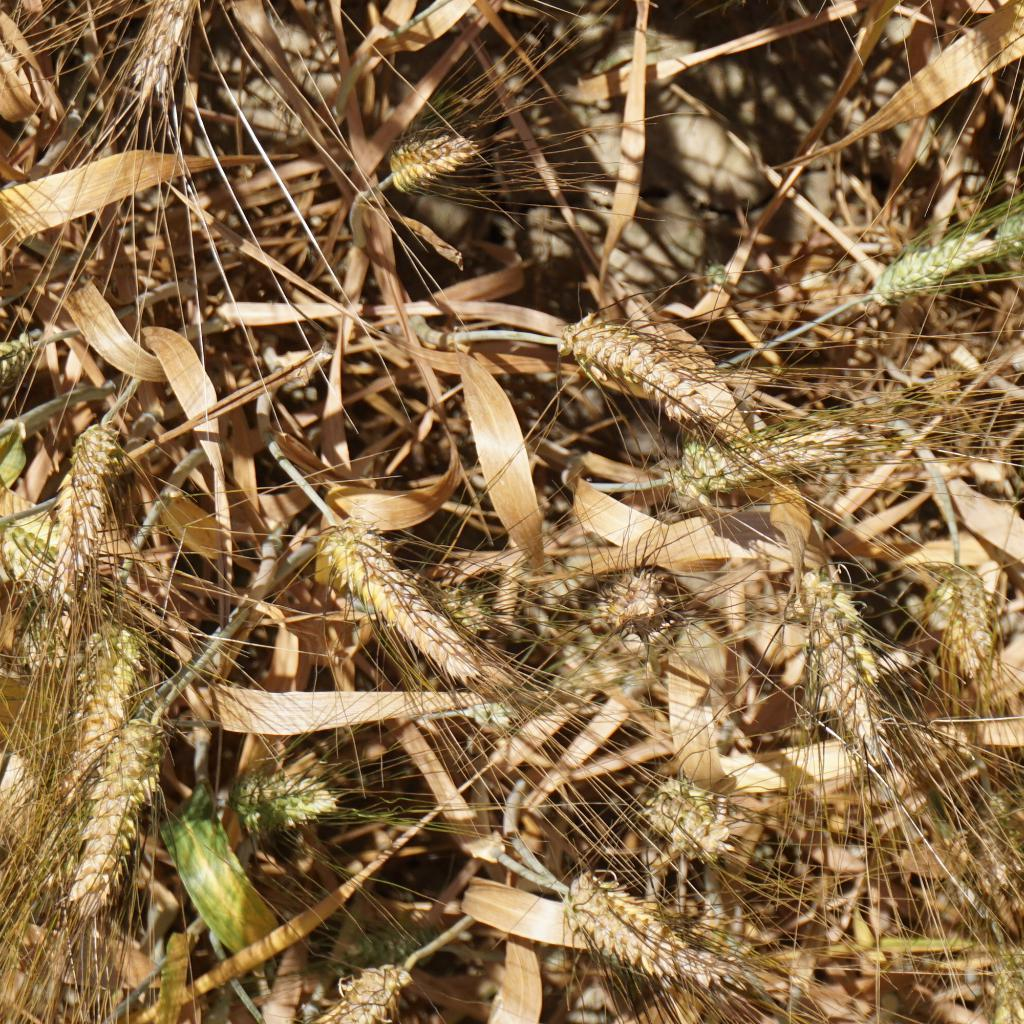0-0: (314, 503, 494, 685), (551, 305, 731, 435), (567, 862, 726, 990), (797, 559, 893, 742), (84, 714, 171, 905), (0, 486, 98, 629), (57, 404, 135, 577), (860, 223, 1006, 311), (0, 335, 88, 480), (628, 760, 736, 860), (49, 614, 120, 765), (937, 553, 1024, 673), (955, 767, 1024, 906), (234, 756, 348, 839), (671, 429, 844, 482), (586, 563, 685, 655), (390, 123, 494, 204), (460, 670, 577, 739), (134, 0, 210, 96), (0, 736, 57, 854), (15, 574, 76, 677), (326, 956, 417, 1024), (976, 914, 1024, 1024), (918, 357, 973, 408), (984, 193, 1024, 250)
